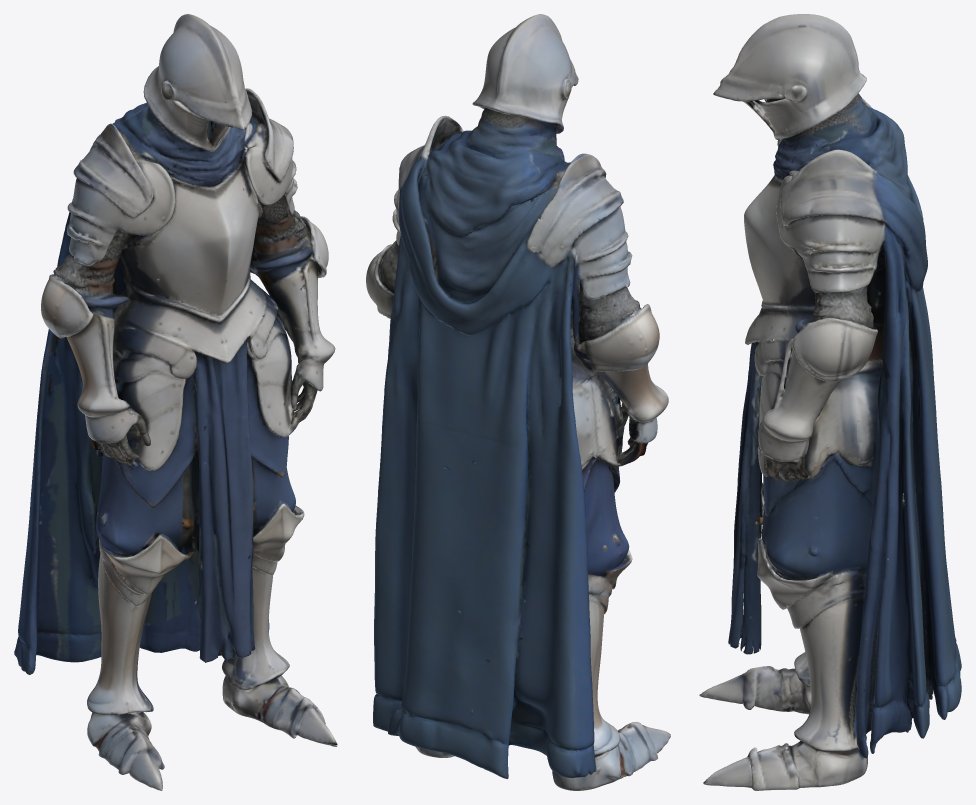
File: Armor.fbx
3 renders of one model, left to right at view 1: azimuth 30°, elevation 25°; view 2: azimuth 150°, elevation 25°; view 3: azimuth 270°, elevation 25°, orthographic. The views are drawn at different scales.
Visible parts, largest first — view 1: Mesh_0; view 2: Mesh_0; view 3: Mesh_0.
Part boxes in pixels (box(x1,y1,x2,y2)): Mesh_0: box(14, 14, 337, 790); Mesh_0: box(366, 14, 670, 790); Mesh_0: box(699, 14, 961, 790).
Size of the model in its own units: 81.33 by 200 by 65.37.
1 material, 1 textured.
